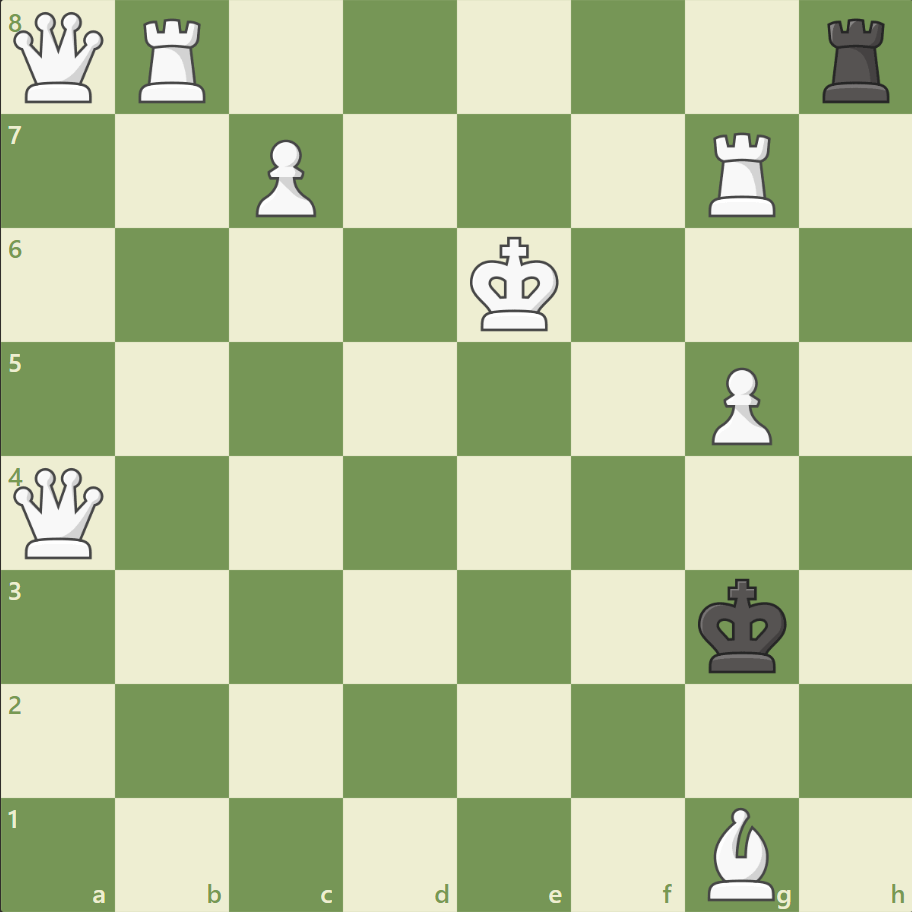B: (698, 801, 782, 904)
K: (465, 231, 565, 339)
P: (247, 132, 322, 223), (701, 359, 776, 450)
Q: (10, 9, 109, 108), (10, 463, 109, 562)
R: (700, 125, 783, 222), (133, 12, 215, 109)
k: (692, 571, 792, 679)
r: (814, 12, 897, 109)
